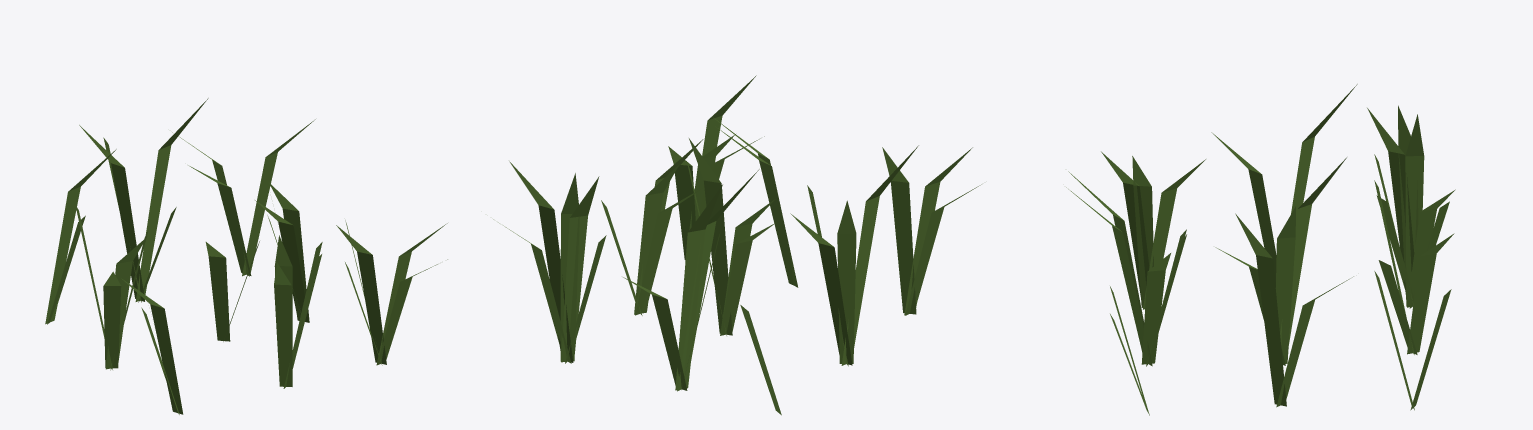
File: rice_green.glb
3 renders of one model, left to right at view 1: azimuth 30°, elevation 25°; view 2: azimuth 150°, elevation 25°; view 3: azimuth 270°, elevation 25°, orthographic. The views are drawn at different scales.
Visible parts, largest first — view 1: rice_green; view 2: rice_green; view 3: rice_green.
Part boxes in pixels (<box>): rice_green: <box>45,98,447,414</box>; rice_green: <box>493,75,981,415</box>; rice_green: <box>1066,84,1455,415</box>.
Size of the model in its own units: 1.14 by 0.7399 by 1.25.
